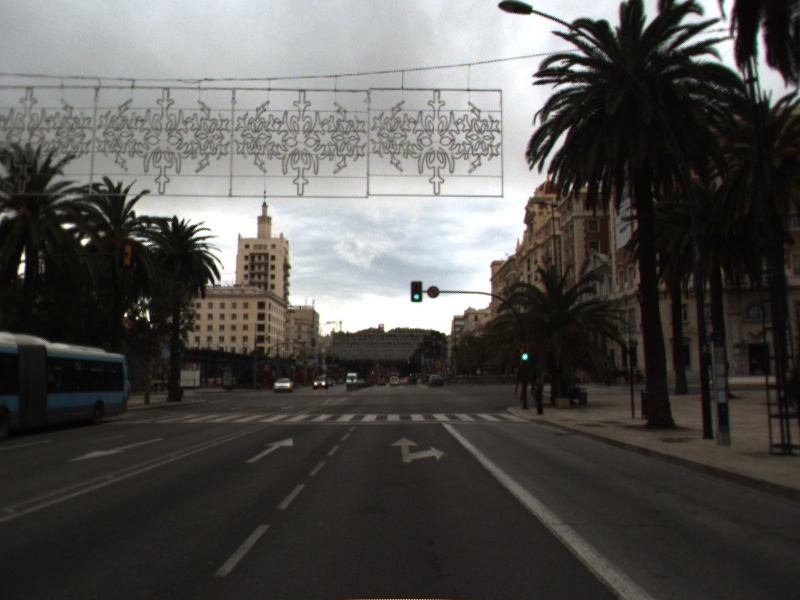STRAIGHT: (243, 436, 295, 464)
STRAIGHT_RIGHT: (388, 434, 447, 465)
